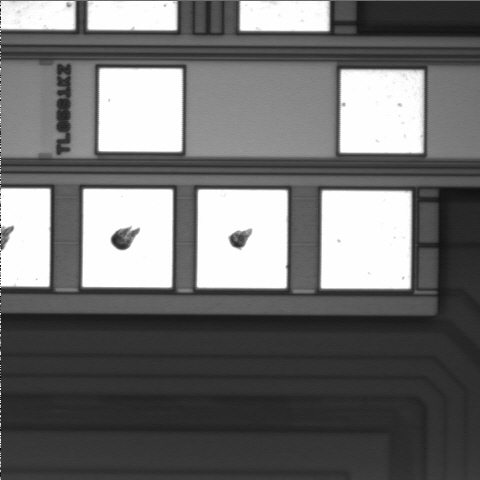pad: (82, 189, 173, 288), (197, 189, 288, 288), (321, 190, 411, 289), (98, 68, 182, 152), (340, 70, 423, 153)
